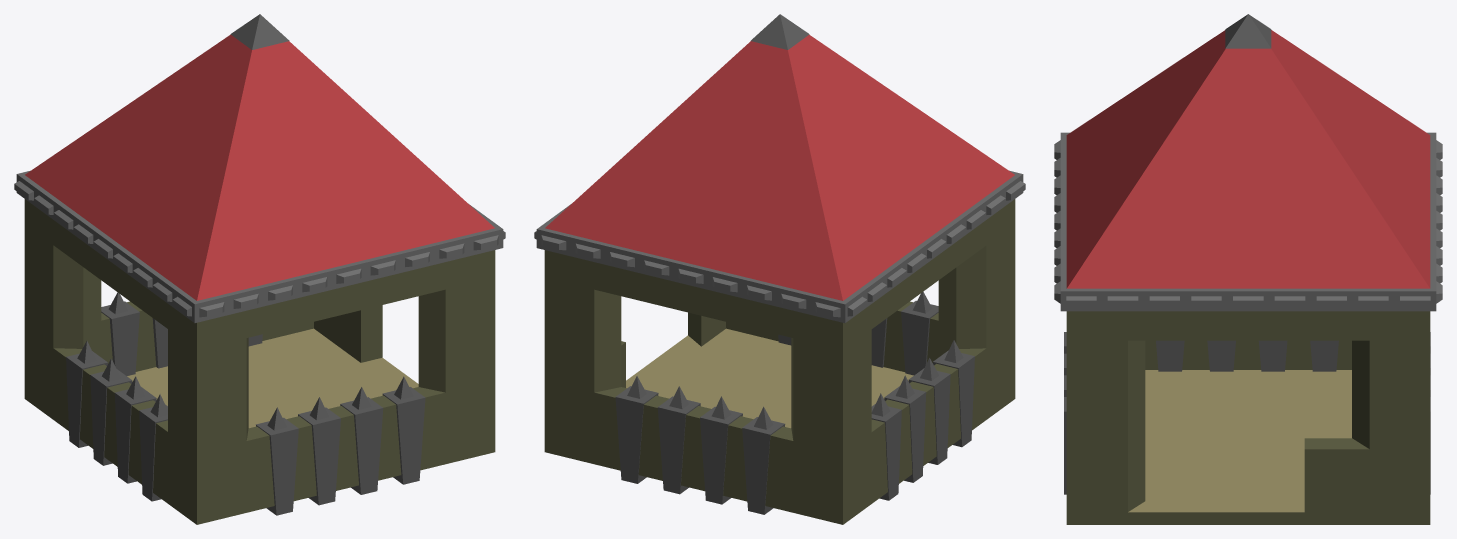
File: guardhouse.fbx
3 renders of one model, left to right at view 1: azimuth 30°, elevation 25°; view 2: azimuth 150°, elevation 25°; view 3: azimuth 270°, elevation 25°, orthographic. The views are drawn at different scales.
Parts seen in each view (by area): view 1: GuardingSpotTop.001, GuardingSpotBottom, spikes; view 2: GuardingSpotTop.001, GuardingSpotBottom, spikes; view 3: GuardingSpotTop.001, GuardingSpotBottom, spikes.
Boxes of the visible parts, left/top/right/bottom form: GuardingSpotTop.001: left=14, top=14, right=505, bottom=454; GuardingSpotBottom: left=24, top=301, right=495, bottom=524; spikes: left=66, top=292, right=425, bottom=515; GuardingSpotTop.001: left=534, top=14, right=1025, bottom=455; GuardingSpotBottom: left=544, top=301, right=1015, bottom=524; spikes: left=615, top=291, right=974, bottom=514; GuardingSpotTop.001: left=1054, top=14, right=1442, bottom=451; GuardingSpotBottom: left=1066, top=340, right=1430, bottom=524; spikes: left=1064, top=332, right=1430, bottom=494.
Bounding box in the file's own units: 4.23 × 5.34 × 4.23.
